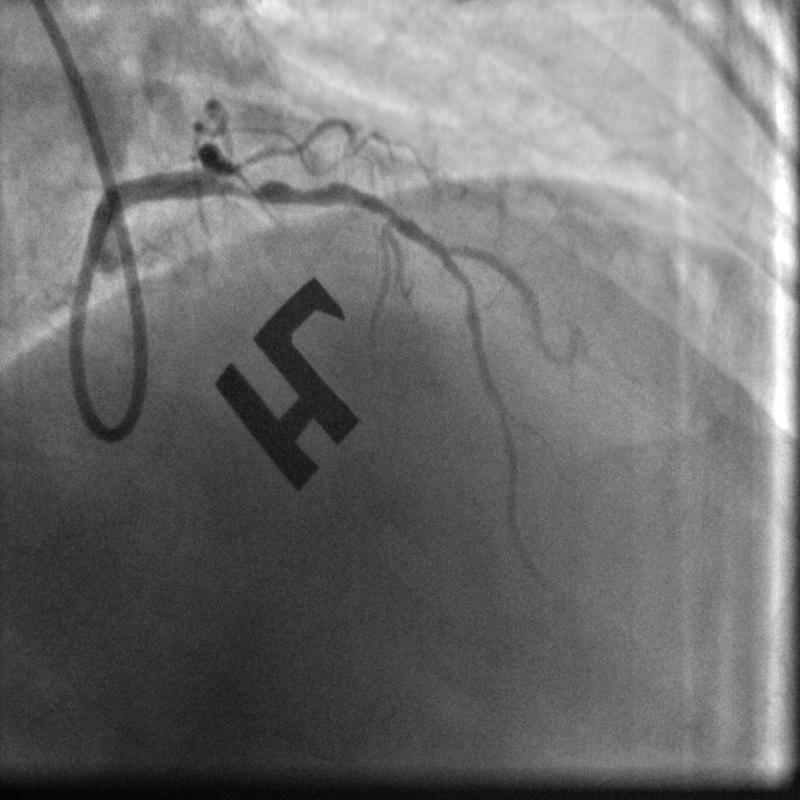Stenosis: (226, 168, 338, 206)
